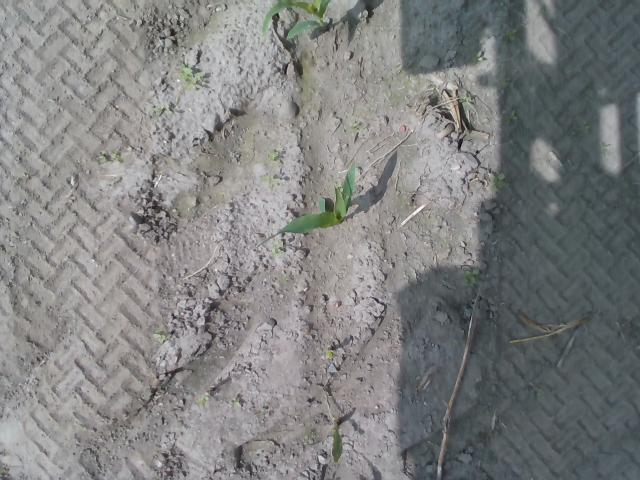Maize: (253, 164, 358, 250), (259, 0, 332, 42), (328, 420, 344, 464)
Weeds: (177, 64, 204, 86), (95, 152, 125, 164), (486, 172, 504, 192), (462, 268, 478, 286), (152, 330, 168, 344), (151, 105, 173, 115), (271, 241, 284, 256), (575, 120, 591, 132), (472, 48, 483, 63), (262, 174, 276, 184), (266, 150, 278, 161), (505, 29, 516, 41), (302, 436, 314, 446), (200, 392, 208, 403), (510, 110, 518, 120), (232, 400, 242, 407), (326, 352, 334, 360)
